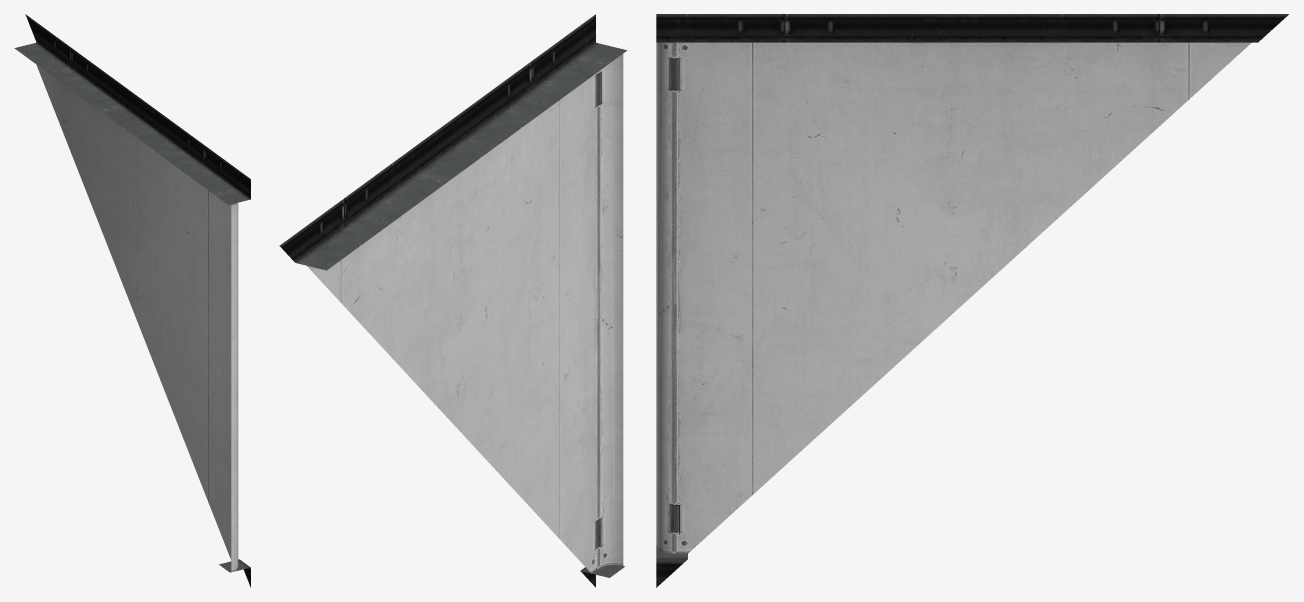
The model's file is Neon_Wall_4x4_edge.fbx.
3 views of the same model, side by side, from view 1: azimuth 30°, elevation 25°; view 2: azimuth 150°, elevation 25°; view 3: azimuth 270°, elevation 25° (orthographic). The views are drawn at different scales.
Parts seen in each view (by area): view 1: Neon_Wall_4x4_01B; view 2: Neon_Wall_4x4_01B; view 3: Neon_Wall_4x4_01B.
Boxes of the visible parts, x1,y1,x2,y2 form: Neon_Wall_4x4_01B: (14,14,250,587); Neon_Wall_4x4_01B: (279,14,626,587); Neon_Wall_4x4_01B: (656,14,1288,587).
Bounding box in the file's own units: 22.98 × 400 × 400.
2 materials, 2 textured.
